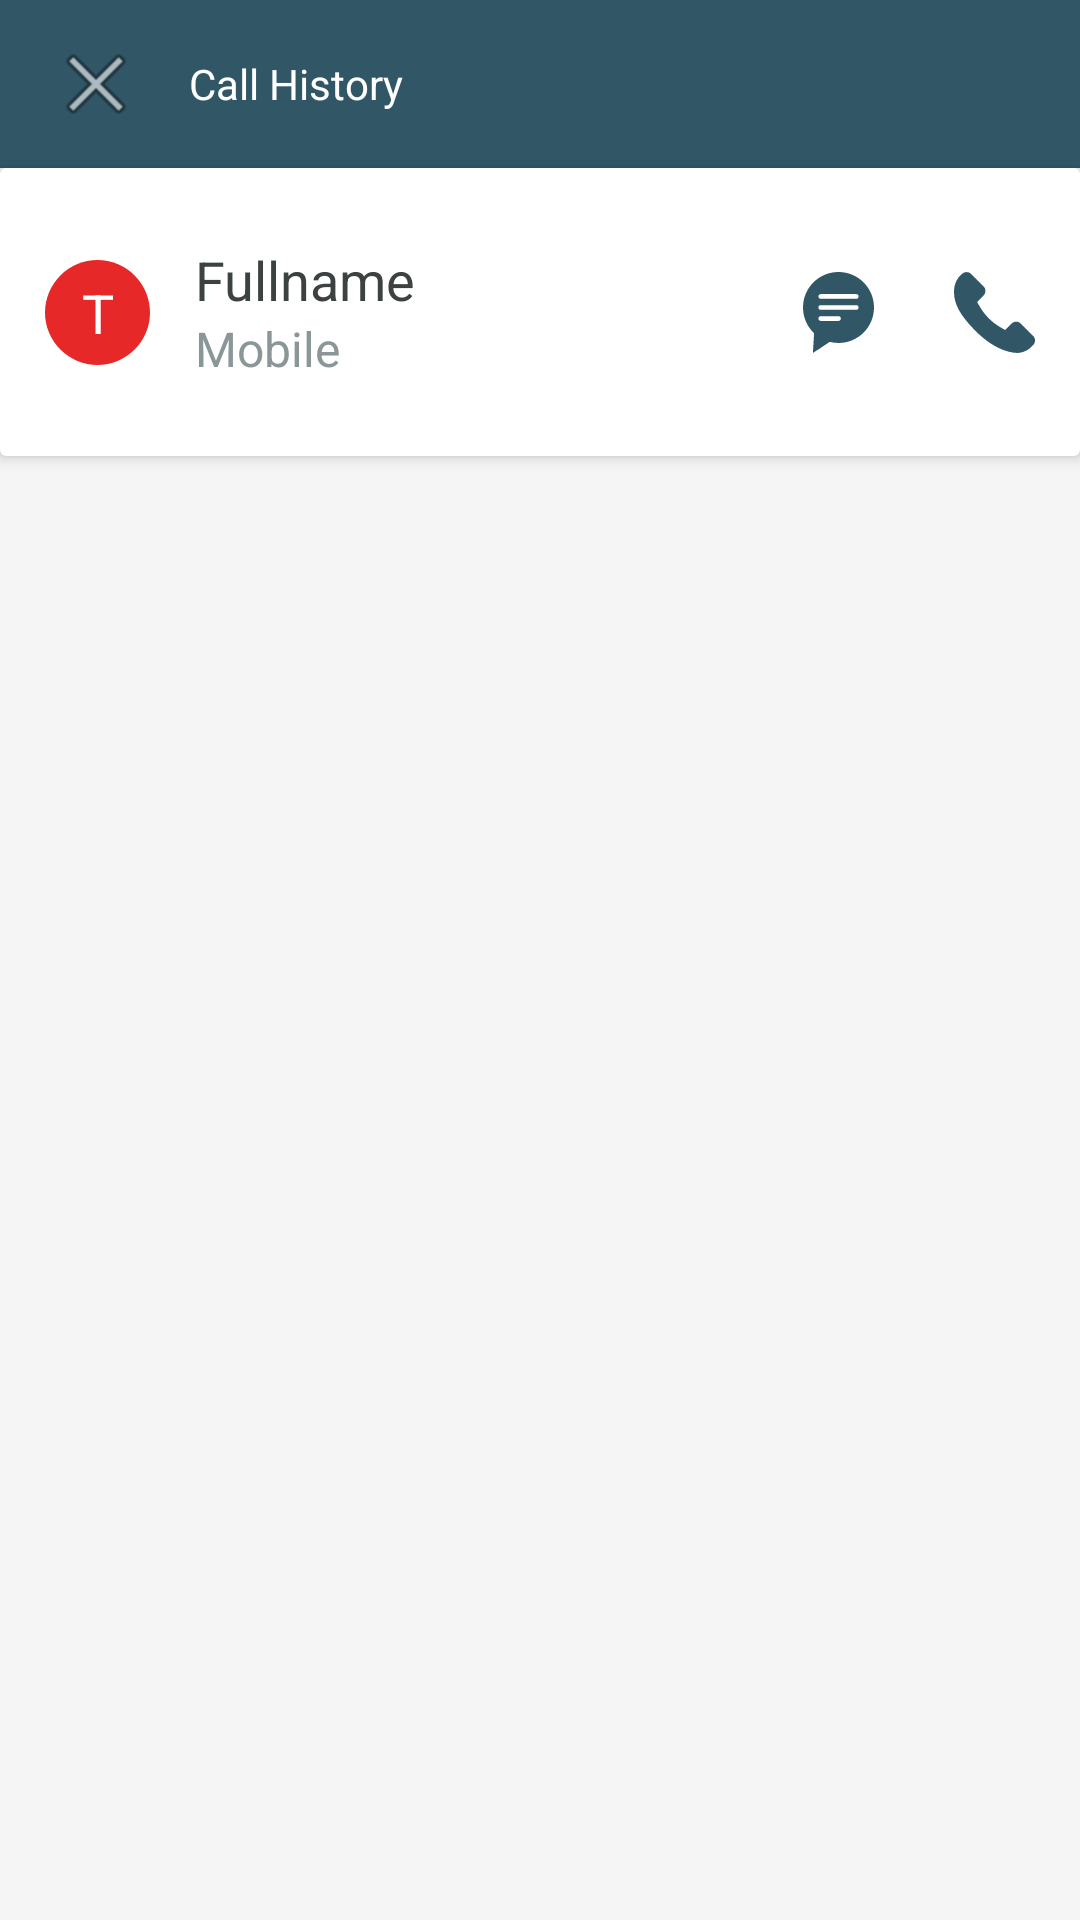

Point at icon controls on the screen. Image size 1080px×1920px, points as [x,y].
Button to call contacts: [994,312]
Button to message contacts: [838,312]
close clear cancel: [96,84]
